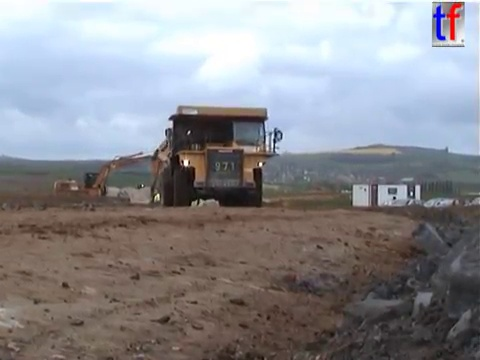excavator: (51, 147, 202, 205)
truck: (148, 103, 287, 208)
